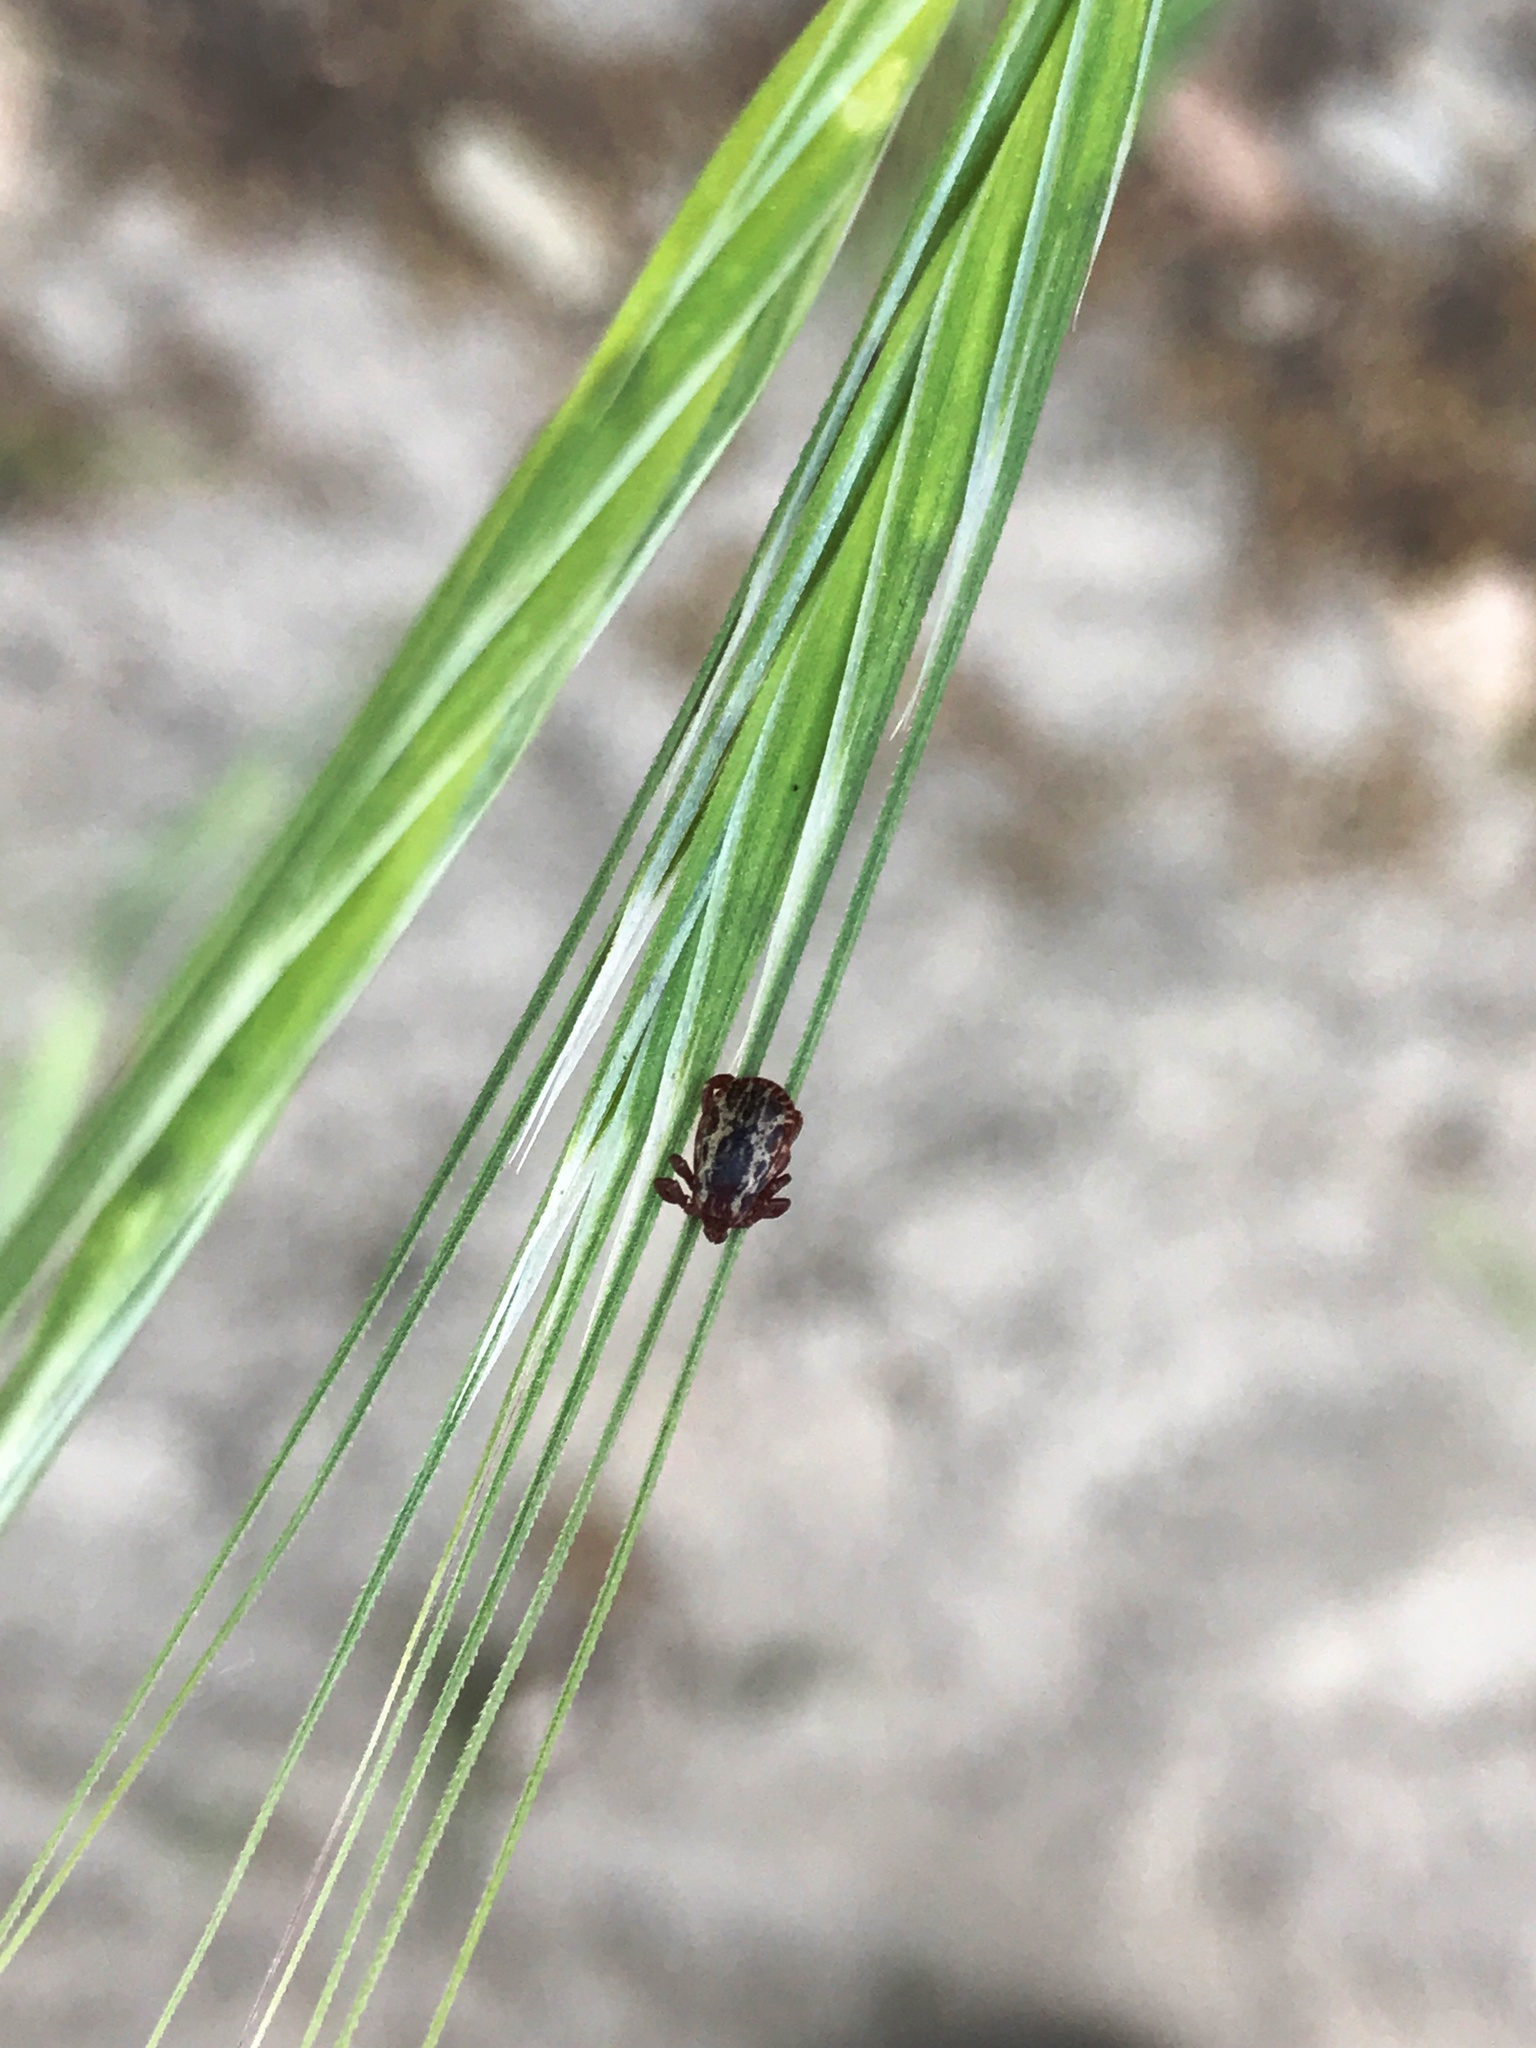garrapata: (657, 1045, 836, 1258)
